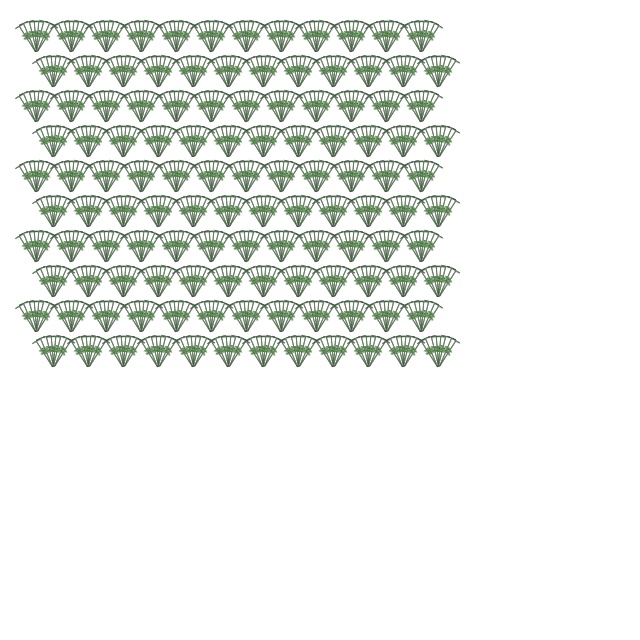fan: (15, 22, 42, 56), (32, 22, 59, 56), (50, 22, 77, 56), (67, 22, 94, 56), (85, 22, 112, 56), (102, 22, 129, 56), (120, 22, 147, 56), (137, 22, 164, 56), (155, 22, 182, 56), (172, 22, 199, 56), (190, 22, 217, 56), (207, 22, 234, 56), (225, 22, 252, 56), (242, 22, 269, 56), (260, 22, 287, 56), (277, 22, 304, 56), (295, 22, 322, 56), (312, 22, 339, 56), (330, 22, 357, 56), (347, 22, 374, 56), (365, 22, 392, 56), (382, 22, 409, 56), (400, 22, 427, 56), (417, 22, 444, 56), (32, 57, 59, 91), (49, 57, 76, 91), (67, 57, 94, 91), (84, 57, 111, 91), (102, 57, 129, 91), (119, 57, 146, 91), (137, 57, 164, 91), (154, 57, 181, 91), (172, 57, 199, 91), (189, 57, 216, 91), (207, 57, 234, 91), (224, 57, 251, 91), (242, 57, 269, 91), (259, 57, 286, 91), (277, 57, 304, 91), (294, 57, 321, 91), (312, 57, 339, 91), (329, 57, 356, 91), (347, 57, 374, 91), (364, 57, 391, 91), (382, 57, 409, 91), (399, 57, 426, 91), (417, 57, 444, 91), (434, 57, 461, 91), (15, 92, 42, 126), (32, 92, 59, 126), (50, 92, 77, 126), (67, 92, 94, 126), (85, 92, 112, 126), (102, 92, 129, 126), (120, 92, 147, 126), (137, 92, 164, 126), (155, 92, 182, 126), (172, 92, 199, 126), (190, 92, 217, 126), (207, 92, 234, 126), (225, 92, 252, 126), (242, 92, 269, 126), (260, 92, 287, 126), (277, 92, 304, 126), (295, 92, 322, 126), (312, 92, 339, 126), (330, 92, 357, 126), (347, 92, 374, 126), (365, 92, 392, 126), (382, 92, 409, 126), (400, 92, 427, 126), (417, 92, 444, 126), (32, 127, 59, 161), (49, 127, 76, 161), (67, 127, 94, 161), (84, 127, 111, 161), (102, 127, 129, 161), (119, 127, 146, 161), (137, 127, 164, 161), (154, 127, 181, 161), (172, 127, 199, 161), (189, 127, 216, 161), (207, 127, 234, 161), (224, 127, 251, 161), (242, 127, 269, 161), (259, 127, 286, 161), (277, 127, 304, 161), (294, 127, 321, 161), (312, 127, 339, 161), (329, 127, 356, 161), (347, 127, 374, 161), (364, 127, 391, 161), (382, 127, 409, 161), (399, 127, 426, 161), (417, 127, 444, 161), (434, 127, 461, 161), (15, 162, 42, 196), (32, 162, 59, 196), (50, 162, 77, 196), (67, 162, 94, 196), (85, 162, 112, 196), (102, 162, 129, 196), (120, 162, 147, 196), (137, 162, 164, 196), (155, 162, 182, 196), (172, 162, 199, 196), (190, 162, 217, 196), (207, 162, 234, 196), (225, 162, 252, 196), (242, 162, 269, 196), (260, 162, 287, 196), (277, 162, 304, 196), (295, 162, 322, 196), (312, 162, 339, 196), (330, 162, 357, 196), (347, 162, 374, 196), (365, 162, 392, 196), (382, 162, 409, 196), (400, 162, 427, 196), (417, 162, 444, 196), (32, 197, 59, 231), (49, 197, 76, 231), (67, 197, 94, 231), (84, 197, 111, 231), (102, 197, 129, 231), (119, 197, 146, 231), (137, 197, 164, 231), (154, 197, 181, 231), (172, 197, 199, 231), (189, 197, 216, 231), (207, 197, 234, 231), (224, 197, 251, 231), (242, 197, 269, 231), (259, 197, 286, 231), (277, 197, 304, 231), (294, 197, 321, 231), (312, 197, 339, 231), (329, 197, 356, 231), (347, 197, 374, 231), (364, 197, 391, 231), (382, 197, 409, 231), (399, 197, 426, 231), (417, 197, 444, 231), (434, 197, 461, 231), (15, 232, 42, 266), (32, 232, 59, 266), (50, 232, 77, 266), (67, 232, 94, 266), (85, 232, 112, 266), (102, 232, 129, 266), (120, 232, 147, 266), (137, 232, 164, 266), (155, 232, 182, 266), (172, 232, 199, 266), (190, 232, 217, 266), (207, 232, 234, 266), (225, 232, 252, 266), (242, 232, 269, 266), (260, 232, 287, 266), (277, 232, 304, 266), (295, 232, 322, 266), (312, 232, 339, 266), (330, 232, 357, 266), (347, 232, 374, 266), (365, 232, 392, 266), (382, 232, 409, 266), (400, 232, 427, 266), (417, 232, 444, 266), (32, 267, 59, 301), (49, 267, 76, 301), (67, 267, 94, 301), (84, 267, 111, 301), (102, 267, 129, 301), (119, 267, 146, 301), (137, 267, 164, 301), (154, 267, 181, 301), (172, 267, 199, 301), (189, 267, 216, 301), (207, 267, 234, 301), (224, 267, 251, 301), (242, 267, 269, 301), (259, 267, 286, 301), (277, 267, 304, 301), (294, 267, 321, 301), (312, 267, 339, 301), (329, 267, 356, 301), (347, 267, 374, 301), (364, 267, 391, 301), (382, 267, 409, 301), (399, 267, 426, 301), (417, 267, 444, 301), (434, 267, 461, 301), (15, 302, 42, 336), (32, 302, 59, 336), (50, 302, 77, 336), (67, 302, 94, 336), (85, 302, 112, 336), (102, 302, 129, 336), (120, 302, 147, 336), (137, 302, 164, 336), (155, 302, 182, 336), (172, 302, 199, 336), (190, 302, 217, 336), (207, 302, 234, 336), (225, 302, 252, 336), (242, 302, 269, 336), (260, 302, 287, 336), (277, 302, 304, 336), (295, 302, 322, 336), (312, 302, 339, 336), (330, 302, 357, 336), (347, 302, 374, 336), (365, 302, 392, 336), (382, 302, 409, 336), (400, 302, 427, 336), (417, 302, 444, 336), (32, 337, 59, 371), (49, 337, 76, 371), (67, 337, 94, 371), (84, 337, 111, 371), (102, 337, 129, 371), (119, 337, 146, 371), (137, 337, 164, 371), (154, 337, 181, 371), (172, 337, 199, 371), (189, 337, 216, 371), (207, 337, 234, 371), (224, 337, 251, 371), (242, 337, 269, 371), (259, 337, 286, 371), (277, 337, 304, 371), (294, 337, 321, 371), (312, 337, 339, 371), (329, 337, 356, 371), (347, 337, 374, 371), (364, 337, 391, 371), (382, 337, 409, 371), (399, 337, 426, 371), (417, 337, 444, 371), (434, 337, 461, 371), (19, 21, 42, 55), (32, 21, 55, 55), (54, 21, 77, 55), (67, 21, 90, 55), (89, 21, 112, 55), (102, 21, 125, 55), (124, 21, 147, 55), (137, 21, 160, 55), (159, 21, 182, 55), (172, 21, 195, 55), (194, 21, 217, 55), (207, 21, 230, 55), (229, 21, 252, 55), (242, 21, 265, 55), (264, 21, 287, 55), (277, 21, 300, 55), (299, 21, 322, 55), (312, 21, 335, 55), (334, 21, 357, 55), (347, 21, 370, 55), (369, 21, 392, 55), (382, 21, 405, 55), (404, 21, 427, 55), (417, 21, 440, 55), (36, 56, 59, 90), (49, 56, 72, 90), (71, 56, 94, 90), (84, 56, 107, 90), (106, 56, 129, 90), (119, 56, 142, 90), (141, 56, 164, 90), (154, 56, 177, 90), (176, 56, 199, 90), (189, 56, 212, 90), (211, 56, 234, 90), (224, 56, 247, 90), (246, 56, 269, 90), (259, 56, 282, 90), (281, 56, 304, 90), (294, 56, 317, 90), (316, 56, 339, 90), (329, 56, 352, 90), (351, 56, 374, 90), (364, 56, 387, 90), (386, 56, 409, 90), (399, 56, 422, 90), (421, 56, 444, 90), (434, 56, 457, 90), (19, 91, 42, 125), (32, 91, 55, 125), (54, 91, 77, 125), (67, 91, 90, 125), (89, 91, 112, 125), (102, 91, 125, 125), (124, 91, 147, 125), (137, 91, 160, 125), (159, 91, 182, 125), (172, 91, 195, 125), (194, 91, 217, 125), (207, 91, 230, 125), (229, 91, 252, 125), (242, 91, 265, 125), (264, 91, 287, 125), (277, 91, 300, 125), (299, 91, 322, 125), (312, 91, 335, 125), (334, 91, 357, 125), (347, 91, 370, 125), (369, 91, 392, 125), (382, 91, 405, 125), (404, 91, 427, 125), (417, 91, 440, 125), (36, 126, 59, 160), (49, 126, 72, 160), (71, 126, 94, 160), (84, 126, 107, 160), (106, 126, 129, 160), (119, 126, 142, 160), (141, 126, 164, 160), (154, 126, 177, 160), (176, 126, 199, 160), (189, 126, 212, 160), (211, 126, 234, 160), (224, 126, 247, 160), (246, 126, 269, 160), (259, 126, 282, 160), (281, 126, 304, 160), (294, 126, 317, 160), (316, 126, 339, 160), (329, 126, 352, 160), (351, 126, 374, 160), (364, 126, 387, 160), (386, 126, 409, 160), (399, 126, 422, 160), (421, 126, 444, 160), (434, 126, 457, 160), (19, 161, 42, 195), (32, 161, 55, 195), (54, 161, 77, 195), (67, 161, 90, 195), (89, 161, 112, 195), (102, 161, 125, 195), (124, 161, 147, 195), (137, 161, 160, 195), (159, 161, 182, 195), (172, 161, 195, 195), (194, 161, 217, 195), (207, 161, 230, 195), (229, 161, 252, 195), (242, 161, 265, 195), (264, 161, 287, 195), (277, 161, 300, 195), (299, 161, 322, 195), (312, 161, 335, 195), (334, 161, 357, 195), (347, 161, 370, 195), (369, 161, 392, 195), (382, 161, 405, 195), (404, 161, 427, 195), (417, 161, 440, 195), (36, 196, 59, 230), (49, 196, 72, 230), (71, 196, 94, 230), (84, 196, 107, 230), (106, 196, 129, 230), (119, 196, 142, 230), (141, 196, 164, 230), (154, 196, 177, 230), (176, 196, 199, 230), (189, 196, 212, 230), (211, 196, 234, 230), (224, 196, 247, 230), (246, 196, 269, 230), (259, 196, 282, 230), (281, 196, 304, 230), (294, 196, 317, 230), (316, 196, 339, 230), (329, 196, 352, 230), (351, 196, 374, 230), (364, 196, 387, 230), (386, 196, 409, 230), (399, 196, 422, 230), (421, 196, 444, 230), (434, 196, 457, 230), (19, 231, 42, 265), (32, 231, 55, 265), (54, 231, 77, 265), (67, 231, 90, 265), (89, 231, 112, 265), (102, 231, 125, 265), (124, 231, 147, 265), (137, 231, 160, 265), (159, 231, 182, 265), (172, 231, 195, 265), (194, 231, 217, 265), (207, 231, 230, 265), (229, 231, 252, 265), (242, 231, 265, 265), (264, 231, 287, 265), (277, 231, 300, 265), (299, 231, 322, 265), (312, 231, 335, 265), (334, 231, 357, 265), (347, 231, 370, 265), (369, 231, 392, 265), (382, 231, 405, 265), (404, 231, 427, 265), (417, 231, 440, 265), (36, 266, 59, 300), (49, 266, 72, 300), (71, 266, 94, 300), (84, 266, 107, 300), (106, 266, 129, 300), (119, 266, 142, 300), (141, 266, 164, 300), (154, 266, 177, 300), (176, 266, 199, 300), (189, 266, 212, 300), (211, 266, 234, 300), (224, 266, 247, 300), (246, 266, 269, 300), (259, 266, 282, 300), (281, 266, 304, 300), (294, 266, 317, 300), (316, 266, 339, 300), (329, 266, 352, 300), (351, 266, 374, 300), (364, 266, 387, 300), (386, 266, 409, 300), (399, 266, 422, 300), (421, 266, 444, 300), (434, 266, 457, 300), (19, 301, 42, 335), (32, 301, 55, 335), (54, 301, 77, 335), (67, 301, 90, 335), (89, 301, 112, 335), (102, 301, 125, 335), (124, 301, 147, 335), (137, 301, 160, 335), (159, 301, 182, 335), (172, 301, 195, 335), (194, 301, 217, 335), (207, 301, 230, 335), (229, 301, 252, 335), (242, 301, 265, 335), (264, 301, 287, 335), (277, 301, 300, 335), (299, 301, 322, 335), (312, 301, 335, 335), (334, 301, 357, 335), (347, 301, 370, 335), (369, 301, 392, 335), (382, 301, 405, 335), (404, 301, 427, 335), (417, 301, 440, 335), (36, 336, 59, 370), (49, 336, 72, 370), (71, 336, 94, 370), (84, 336, 107, 370), (106, 336, 129, 370), (119, 336, 142, 370), (141, 336, 164, 370), (154, 336, 177, 370), (176, 336, 199, 370), (189, 336, 212, 370), (211, 336, 234, 370), (224, 336, 247, 370), (246, 336, 269, 370), (259, 336, 282, 370), (281, 336, 304, 370), (294, 336, 317, 370), (316, 336, 339, 370), (329, 336, 352, 370), (351, 336, 374, 370), (364, 336, 387, 370), (386, 336, 409, 370), (399, 336, 422, 370), (421, 336, 444, 370), (434, 336, 457, 370), (24, 20, 42, 54), (32, 20, 50, 54), (59, 20, 77, 54), (67, 20, 85, 54), (94, 20, 112, 54), (102, 20, 120, 54), (129, 20, 147, 54), (137, 20, 155, 54), (164, 20, 182, 54), (172, 20, 190, 54), (199, 20, 217, 54), (207, 20, 225, 54), (234, 20, 252, 54), (242, 20, 260, 54), (269, 20, 287, 54), (277, 20, 295, 54), (304, 20, 322, 54), (312, 20, 330, 54), (339, 20, 357, 54), (347, 20, 365, 54), (374, 20, 392, 54), (382, 20, 400, 54), (409, 20, 427, 54), (417, 20, 435, 54), (41, 55, 59, 89), (49, 55, 67, 89), (76, 55, 94, 89), (84, 55, 102, 89), (111, 55, 129, 89), (119, 55, 137, 89), (146, 55, 164, 89), (154, 55, 172, 89), (181, 55, 199, 89), (189, 55, 207, 89), (216, 55, 234, 89), (224, 55, 242, 89), (251, 55, 269, 89), (259, 55, 277, 89), (286, 55, 304, 89), (294, 55, 312, 89), (321, 55, 339, 89), (329, 55, 347, 89), (356, 55, 374, 89), (364, 55, 382, 89), (391, 55, 409, 89), (399, 55, 417, 89), (426, 55, 444, 89), (434, 55, 452, 89), (24, 90, 42, 124), (32, 90, 50, 124), (59, 90, 77, 124), (67, 90, 85, 124), (94, 90, 112, 124), (102, 90, 120, 124), (129, 90, 147, 124), (137, 90, 155, 124), (164, 90, 182, 124), (172, 90, 190, 124), (199, 90, 217, 124), (207, 90, 225, 124), (234, 90, 252, 124), (242, 90, 260, 124), (269, 90, 287, 124), (277, 90, 295, 124), (304, 90, 322, 124), (312, 90, 330, 124), (339, 90, 357, 124), (347, 90, 365, 124), (374, 90, 392, 124), (382, 90, 400, 124), (409, 90, 427, 124), (417, 90, 435, 124), (41, 125, 59, 159), (49, 125, 67, 159), (76, 125, 94, 159), (84, 125, 102, 159), (111, 125, 129, 159), (119, 125, 137, 159), (146, 125, 164, 159), (154, 125, 172, 159), (181, 125, 199, 159), (189, 125, 207, 159), (216, 125, 234, 159), (224, 125, 242, 159), (251, 125, 269, 159), (259, 125, 277, 159), (286, 125, 304, 159), (294, 125, 312, 159), (321, 125, 339, 159), (329, 125, 347, 159), (356, 125, 374, 159), (364, 125, 382, 159), (391, 125, 409, 159), (399, 125, 417, 159), (426, 125, 444, 159), (434, 125, 452, 159), (24, 160, 42, 194), (32, 160, 50, 194), (59, 160, 77, 194), (67, 160, 85, 194), (94, 160, 112, 194), (102, 160, 120, 194), (129, 160, 147, 194), (137, 160, 155, 194), (164, 160, 182, 194), (172, 160, 190, 194), (199, 160, 217, 194), (207, 160, 225, 194), (234, 160, 252, 194), (242, 160, 260, 194), (269, 160, 287, 194), (277, 160, 295, 194), (304, 160, 322, 194), (312, 160, 330, 194), (339, 160, 357, 194), (347, 160, 365, 194), (374, 160, 392, 194), (382, 160, 400, 194), (409, 160, 427, 194), (417, 160, 435, 194), (41, 195, 59, 229), (49, 195, 67, 229), (76, 195, 94, 229), (84, 195, 102, 229), (111, 195, 129, 229), (119, 195, 137, 229), (146, 195, 164, 229), (154, 195, 172, 229), (181, 195, 199, 229), (189, 195, 207, 229), (216, 195, 234, 229), (224, 195, 242, 229), (251, 195, 269, 229), (259, 195, 277, 229), (286, 195, 304, 229), (294, 195, 312, 229), (321, 195, 339, 229), (329, 195, 347, 229), (356, 195, 374, 229), (364, 195, 382, 229), (391, 195, 409, 229), (399, 195, 417, 229), (426, 195, 444, 229), (434, 195, 452, 229), (24, 230, 42, 264), (32, 230, 50, 264), (59, 230, 77, 264), (67, 230, 85, 264), (94, 230, 112, 264), (102, 230, 120, 264), (129, 230, 147, 264), (137, 230, 155, 264), (164, 230, 182, 264), (172, 230, 190, 264), (199, 230, 217, 264), (207, 230, 225, 264), (234, 230, 252, 264), (242, 230, 260, 264), (269, 230, 287, 264), (277, 230, 295, 264), (304, 230, 322, 264), (312, 230, 330, 264), (339, 230, 357, 264), (347, 230, 365, 264), (374, 230, 392, 264), (382, 230, 400, 264), (409, 230, 427, 264), (417, 230, 435, 264), (41, 265, 59, 299), (49, 265, 67, 299), (76, 265, 94, 299), (84, 265, 102, 299), (111, 265, 129, 299), (119, 265, 137, 299), (146, 265, 164, 299), (154, 265, 172, 299), (181, 265, 199, 299), (189, 265, 207, 299), (216, 265, 234, 299), (224, 265, 242, 299), (251, 265, 269, 299), (259, 265, 277, 299), (286, 265, 304, 299), (294, 265, 312, 299), (321, 265, 339, 299), (329, 265, 347, 299), (356, 265, 374, 299), (364, 265, 382, 299), (391, 265, 409, 299), (399, 265, 417, 299), (426, 265, 444, 299), (434, 265, 452, 299), (24, 300, 42, 334), (32, 300, 50, 334), (59, 300, 77, 334), (67, 300, 85, 334), (94, 300, 112, 334), (102, 300, 120, 334), (129, 300, 147, 334), (137, 300, 155, 334), (164, 300, 182, 334), (172, 300, 190, 334), (199, 300, 217, 334), (207, 300, 225, 334), (234, 300, 252, 334), (242, 300, 260, 334), (269, 300, 287, 334), (277, 300, 295, 334), (304, 300, 322, 334), (312, 300, 330, 334), (339, 300, 357, 334), (347, 300, 365, 334), (374, 300, 392, 334), (382, 300, 400, 334), (409, 300, 427, 334), (417, 300, 435, 334), (41, 335, 59, 369), (49, 335, 67, 369), (76, 335, 94, 369), (84, 335, 102, 369), (111, 335, 129, 369), (119, 335, 137, 369), (146, 335, 164, 369), (154, 335, 172, 369), (181, 335, 199, 369), (189, 335, 207, 369), (216, 335, 234, 369), (224, 335, 242, 369), (251, 335, 269, 369), (259, 335, 277, 369), (286, 335, 304, 369), (294, 335, 312, 369), (321, 335, 339, 369), (329, 335, 347, 369), (356, 335, 374, 369), (364, 335, 382, 369), (391, 335, 409, 369), (399, 335, 417, 369), (426, 335, 444, 369), (434, 335, 452, 369), (29, 20, 42, 53), (32, 20, 45, 53), (64, 20, 77, 53), (67, 20, 80, 53), (99, 20, 112, 53), (102, 20, 115, 53), (134, 20, 147, 53), (137, 20, 150, 53), (169, 20, 182, 53), (172, 20, 185, 53), (204, 20, 217, 53), (207, 20, 220, 53), (239, 20, 252, 53), (242, 20, 255, 53), (274, 20, 287, 53), (277, 20, 290, 53), (309, 20, 322, 53), (312, 20, 325, 53), (344, 20, 357, 53), (347, 20, 360, 53), (379, 20, 392, 53), (382, 20, 395, 53), (414, 20, 427, 53), (417, 20, 430, 53), (46, 55, 59, 88), (49, 55, 62, 88), (81, 55, 94, 88), (84, 55, 97, 88), (116, 55, 129, 88), (119, 55, 132, 88), (151, 55, 164, 88), (154, 55, 167, 88), (186, 55, 199, 88), (189, 55, 202, 88), (221, 55, 234, 88), (224, 55, 237, 88), (256, 55, 269, 88), (259, 55, 272, 88), (291, 55, 304, 88), (294, 55, 307, 88), (326, 55, 339, 88), (329, 55, 342, 88), (361, 55, 374, 88), (364, 55, 377, 88), (396, 55, 409, 88), (399, 55, 412, 88), (431, 55, 444, 88), (434, 55, 447, 88), (29, 90, 42, 123), (32, 90, 45, 123), (64, 90, 77, 123), (67, 90, 80, 123), (99, 90, 112, 123), (102, 90, 115, 123), (134, 90, 147, 123), (137, 90, 150, 123), (169, 90, 182, 123), (172, 90, 185, 123), (204, 90, 217, 123), (207, 90, 220, 123), (239, 90, 252, 123), (242, 90, 255, 123), (274, 90, 287, 123), (277, 90, 290, 123), (309, 90, 322, 123), (312, 90, 325, 123), (344, 90, 357, 123), (347, 90, 360, 123), (379, 90, 392, 123), (382, 90, 395, 123), (414, 90, 427, 123), (417, 90, 430, 123), (46, 125, 59, 158), (49, 125, 62, 158), (81, 125, 94, 158), (84, 125, 97, 158), (116, 125, 129, 158), (119, 125, 132, 158), (151, 125, 164, 158), (154, 125, 167, 158), (186, 125, 199, 158), (189, 125, 202, 158), (221, 125, 234, 158), (224, 125, 237, 158), (256, 125, 269, 158), (259, 125, 272, 158), (291, 125, 304, 158), (294, 125, 307, 158), (326, 125, 339, 158), (329, 125, 342, 158), (361, 125, 374, 158), (364, 125, 377, 158), (396, 125, 409, 158), (399, 125, 412, 158), (431, 125, 444, 158), (434, 125, 447, 158), (29, 160, 42, 193), (32, 160, 45, 193), (64, 160, 77, 193), (67, 160, 80, 193), (99, 160, 112, 193), (102, 160, 115, 193), (134, 160, 147, 193), (137, 160, 150, 193), (169, 160, 182, 193), (172, 160, 185, 193), (204, 160, 217, 193), (207, 160, 220, 193), (239, 160, 252, 193), (242, 160, 255, 193), (274, 160, 287, 193), (277, 160, 290, 193), (309, 160, 322, 193), (312, 160, 325, 193), (344, 160, 357, 193), (347, 160, 360, 193), (379, 160, 392, 193), (382, 160, 395, 193), (414, 160, 427, 193), (417, 160, 430, 193), (46, 195, 59, 228), (49, 195, 62, 228), (81, 195, 94, 228), (84, 195, 97, 228), (116, 195, 129, 228), (119, 195, 132, 228), (151, 195, 164, 228), (154, 195, 167, 228), (186, 195, 199, 228), (189, 195, 202, 228), (221, 195, 234, 228), (224, 195, 237, 228), (256, 195, 269, 228), (259, 195, 272, 228), (291, 195, 304, 228), (294, 195, 307, 228), (326, 195, 339, 228), (329, 195, 342, 228), (361, 195, 374, 228), (364, 195, 377, 228), (396, 195, 409, 228), (399, 195, 412, 228), (431, 195, 444, 228), (434, 195, 447, 228), (29, 230, 42, 263), (32, 230, 45, 263), (64, 230, 77, 263), (67, 230, 80, 263), (99, 230, 112, 263), (102, 230, 115, 263), (134, 230, 147, 263), (137, 230, 150, 263), (169, 230, 182, 263), (172, 230, 185, 263), (204, 230, 217, 263), (207, 230, 220, 263), (239, 230, 252, 263), (242, 230, 255, 263), (274, 230, 287, 263), (277, 230, 290, 263), (309, 230, 322, 263), (312, 230, 325, 263), (344, 230, 357, 263), (347, 230, 360, 263), (379, 230, 392, 263), (382, 230, 395, 263), (414, 230, 427, 263), (417, 230, 430, 263), (46, 265, 59, 298), (49, 265, 62, 298), (81, 265, 94, 298), (84, 265, 97, 298), (116, 265, 129, 298), (119, 265, 132, 298), (151, 265, 164, 298), (154, 265, 167, 298), (186, 265, 199, 298), (189, 265, 202, 298), (221, 265, 234, 298), (224, 265, 237, 298), (256, 265, 269, 298), (259, 265, 272, 298), (291, 265, 304, 298), (294, 265, 307, 298), (326, 265, 339, 298), (329, 265, 342, 298), (361, 265, 374, 298), (364, 265, 377, 298), (396, 265, 409, 298), (399, 265, 412, 298), (431, 265, 444, 298), (434, 265, 447, 298), (29, 300, 42, 333), (32, 300, 45, 333), (64, 300, 77, 333), (67, 300, 80, 333), (99, 300, 112, 333), (102, 300, 115, 333), (134, 300, 147, 333), (137, 300, 150, 333), (169, 300, 182, 333), (172, 300, 185, 333), (204, 300, 217, 333), (207, 300, 220, 333), (239, 300, 252, 333), (242, 300, 255, 333), (274, 300, 287, 333), (277, 300, 290, 333), (309, 300, 322, 333), (312, 300, 325, 333), (344, 300, 357, 333), (347, 300, 360, 333), (379, 300, 392, 333), (382, 300, 395, 333), (414, 300, 427, 333), (417, 300, 430, 333), (46, 335, 59, 368), (49, 335, 62, 368), (81, 335, 94, 368), (84, 335, 97, 368), (116, 335, 129, 368), (119, 335, 132, 368), (151, 335, 164, 368), (154, 335, 167, 368), (186, 335, 199, 368), (189, 335, 202, 368), (221, 335, 234, 368), (224, 335, 237, 368), (256, 335, 269, 368), (259, 335, 272, 368), (291, 335, 304, 368), (294, 335, 307, 368), (326, 335, 339, 368), (329, 335, 342, 368), (361, 335, 374, 368), (364, 335, 377, 368), (396, 335, 409, 368), (399, 335, 412, 368), (431, 335, 444, 368), (434, 335, 447, 368)
